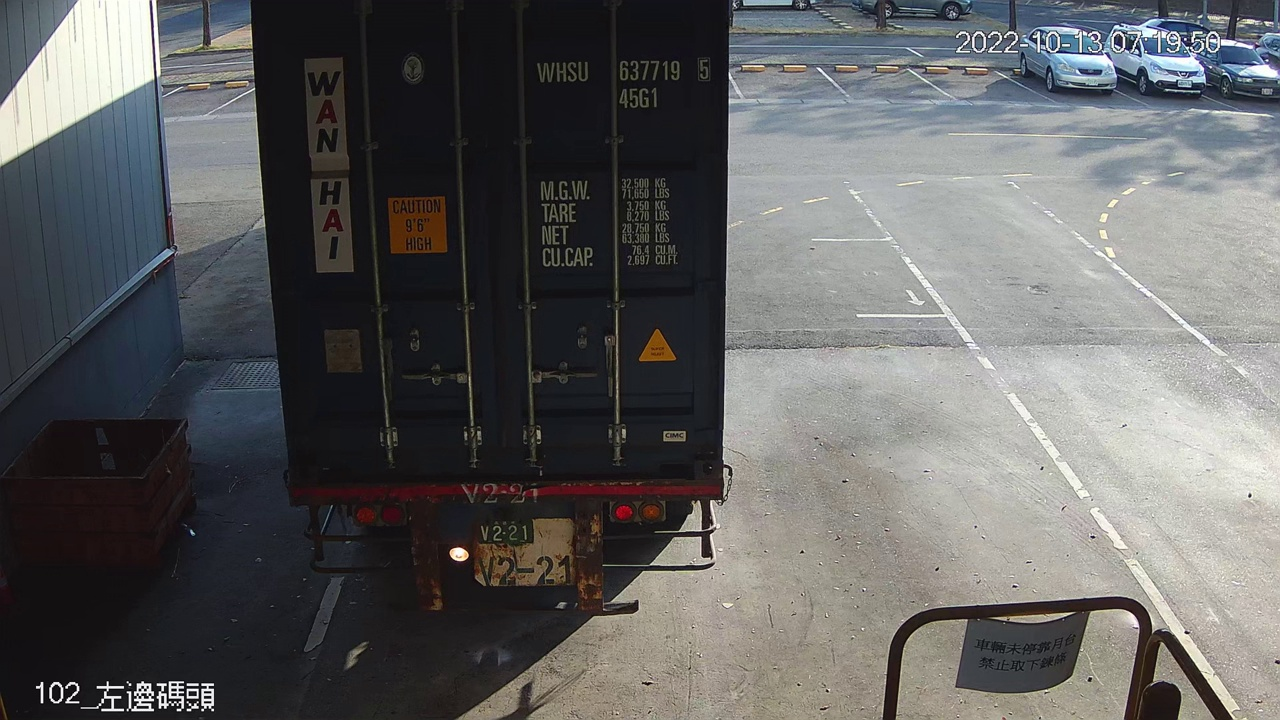container: (529, 48, 718, 114)
